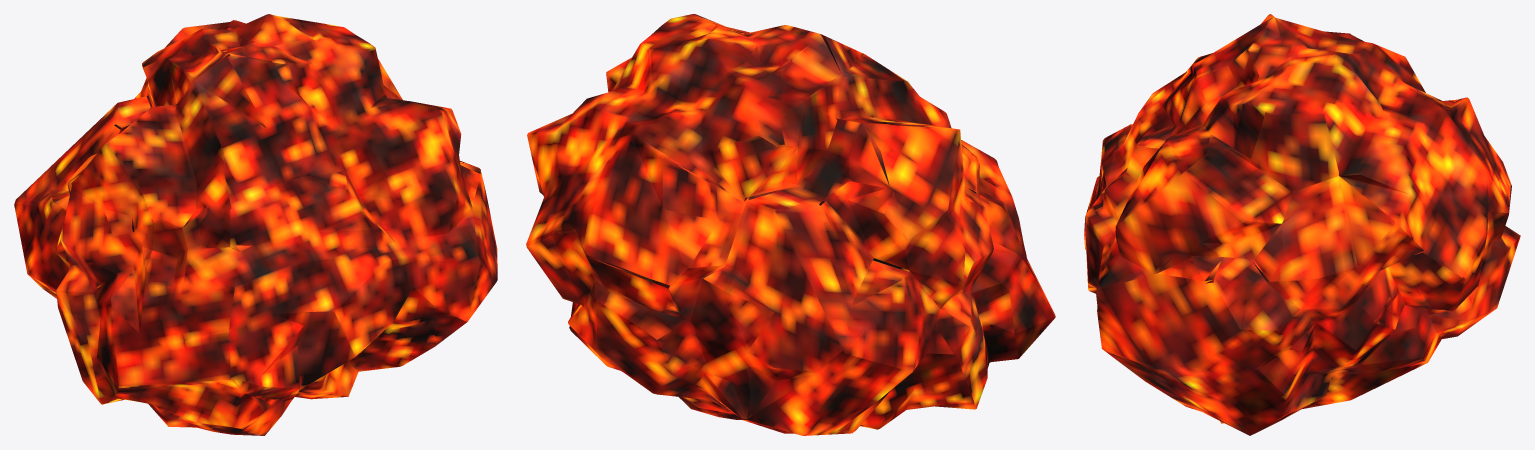
Rendered from meteor_red_03.glb.
3 renders of one model, left to right at view 1: azimuth 30°, elevation 25°; view 2: azimuth 150°, elevation 25°; view 3: azimuth 270°, elevation 25°, orthographic. The views are drawn at different scales.
Parts seen in each view (by area): view 1: Mesh1.0; view 2: Mesh1.0; view 3: Mesh1.0.
Boxes of the visible parts, x1,y1,x2,y2 form: Mesh1.0: (14, 14, 497, 435); Mesh1.0: (526, 14, 1055, 435); Mesh1.0: (1084, 14, 1520, 435).
Bounding box in the file's own units: 1.91 × 1.6 × 1.73.
Materials: 1 (1 with a texture image).
